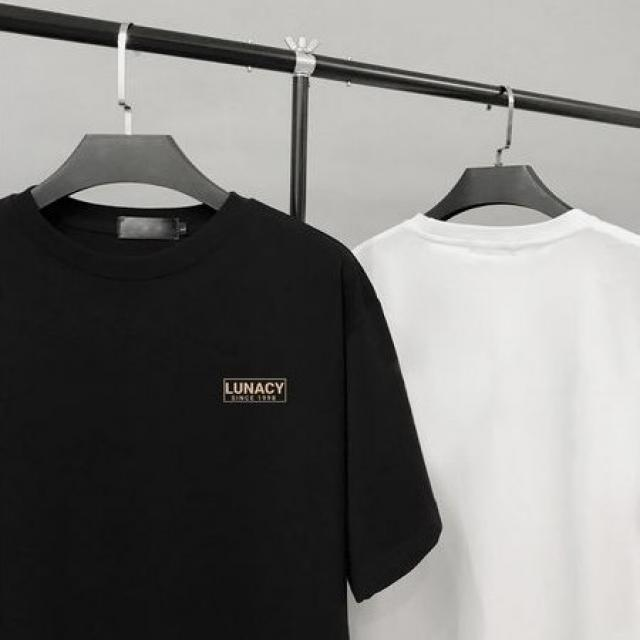Shirt: (1, 181, 441, 638), (336, 204, 638, 638)
